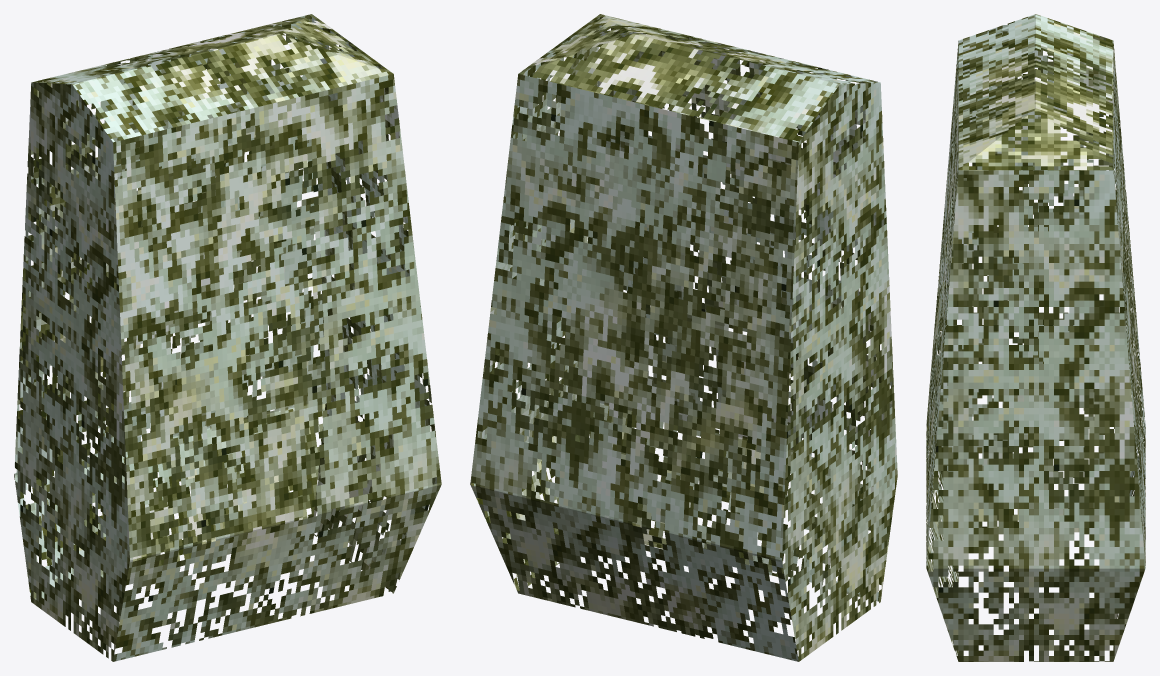
File: bush_tall_half_open_right_winter.glb
The picture shows the model from 3 angles, left to right: view 1: azimuth 30°, elevation 25°; view 2: azimuth 150°, elevation 25°; view 3: azimuth 270°, elevation 25°; orthographic projection. The views are drawn at different scales.
Visible parts, largest first — view 1: bush_tall_half_open_right_winter; view 2: bush_tall_half_open_right_winter; view 3: bush_tall_half_open_right_winter.
Part boxes in pixels (bbox=[...]): bush_tall_half_open_right_winter: bbox=[14, 14, 441, 661]; bush_tall_half_open_right_winter: bbox=[470, 14, 897, 661]; bush_tall_half_open_right_winter: bbox=[926, 14, 1145, 661].
Bounding box in the file's own units: 1.12 × 1.88 × 0.7191.
Materials: 1 (1 with a texture image).
